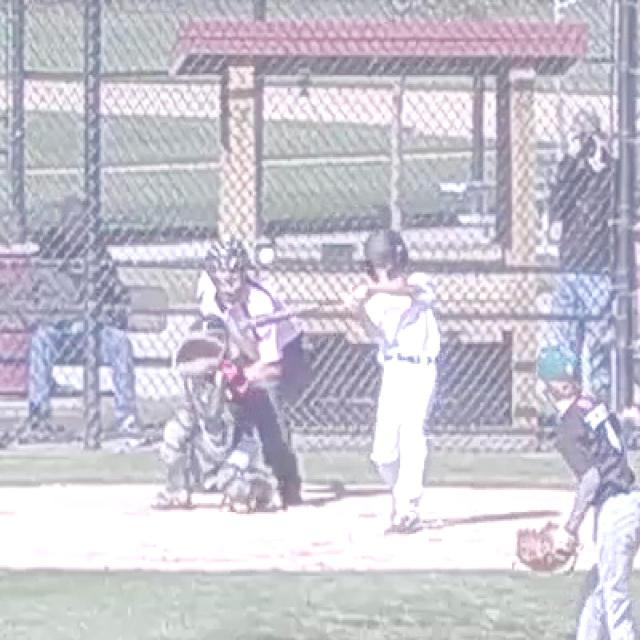baseball: (261, 248, 273, 264)
